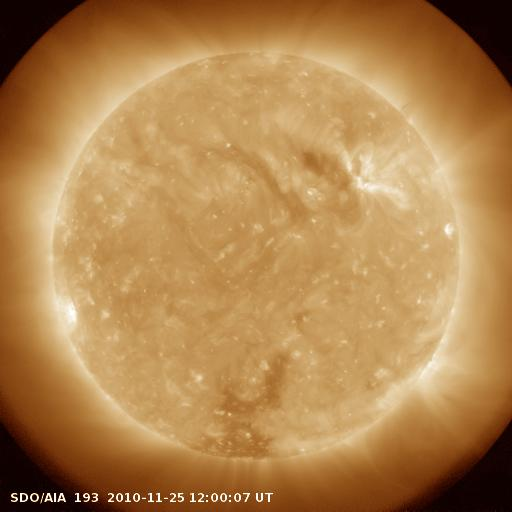coronal_hole: (191, 347, 290, 459), (296, 145, 350, 188)
